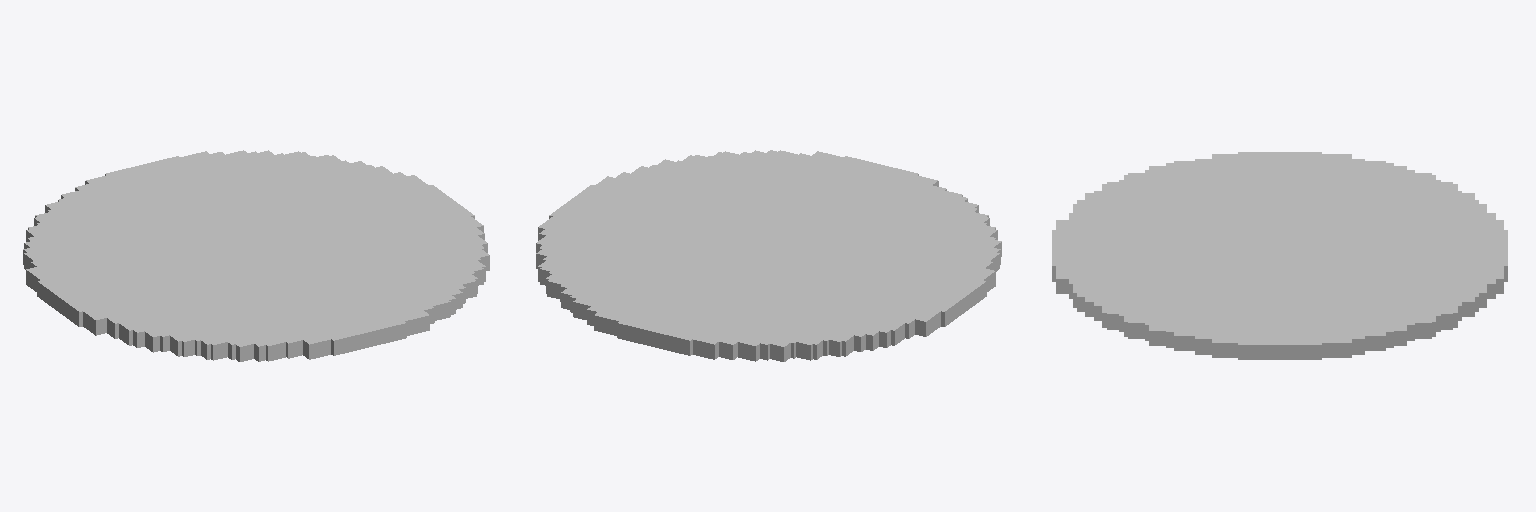
File: BaseDePizzaCortada.obj
3 views of the same model, side by side, from view 1: azimuth 30°, elevation 25°; view 2: azimuth 150°, elevation 25°; view 3: azimuth 270°, elevation 25° (orthographic).
Visible parts, largest first — view 1: object 1; view 2: object 1; view 3: object 1.
Boxes of the visible parts, <box> form: object 1: <box>23,150,489,361</box>; object 1: <box>536,150,1001,361</box>; object 1: <box>1052,152,1507,359</box>.
Size of the model in its own units: 10.8 by 0.4 by 10.8.